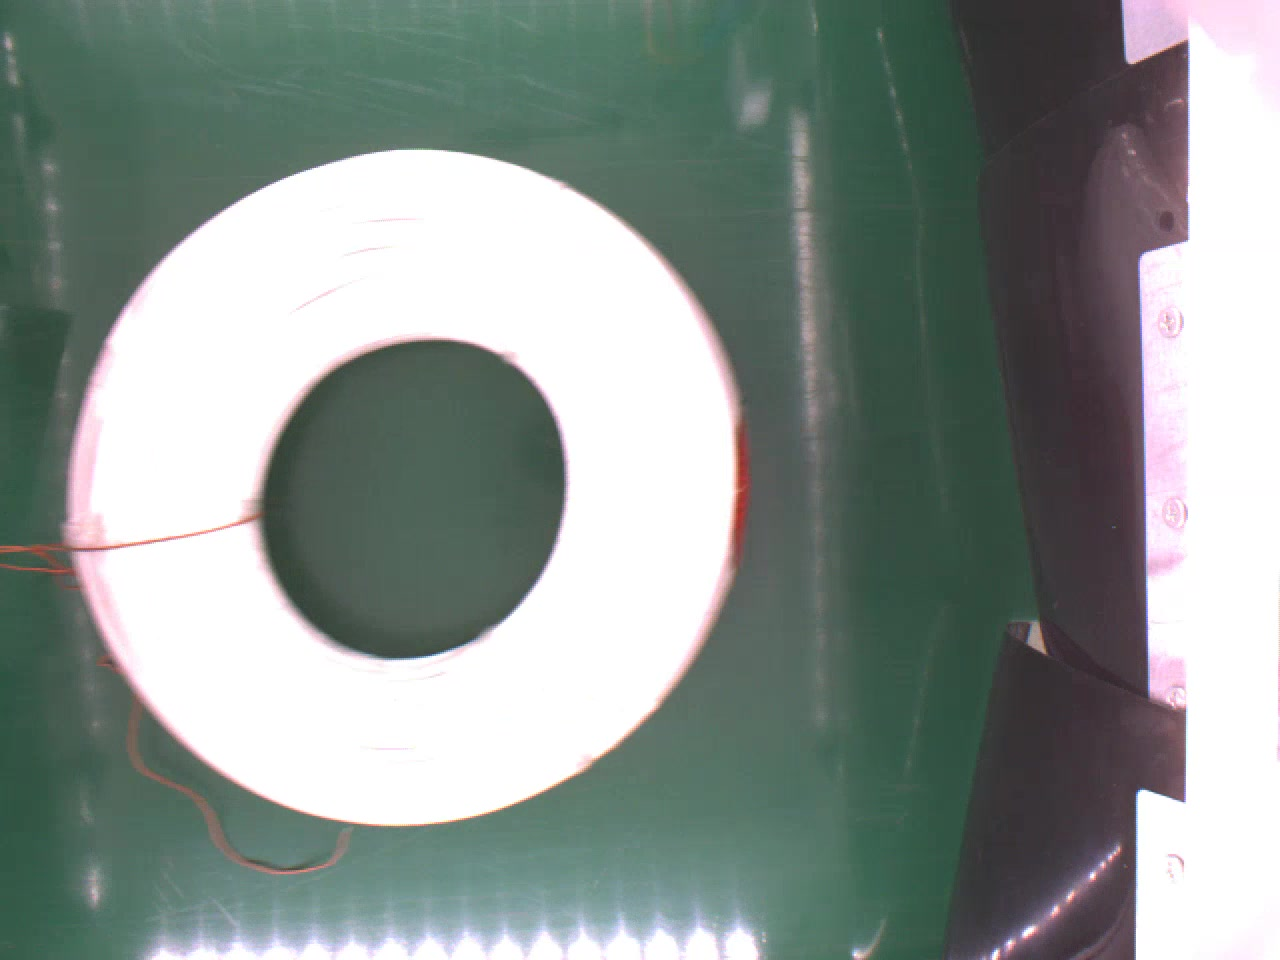white: (67, 149, 745, 820)
